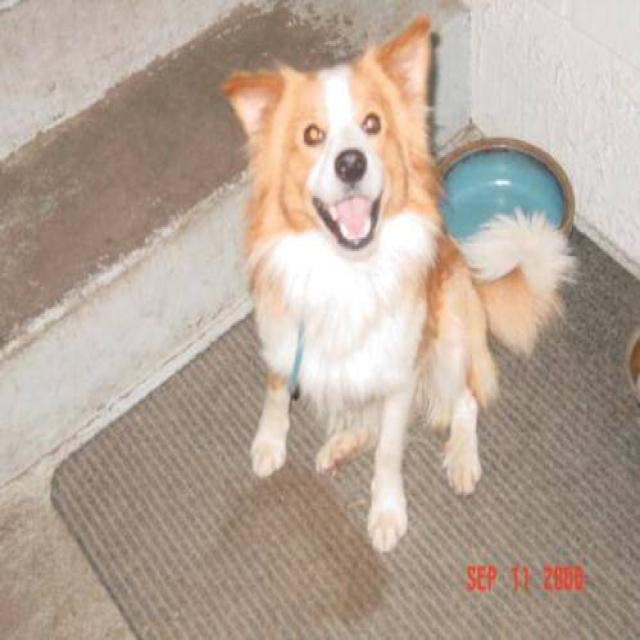dog: (218, 12, 578, 553)
